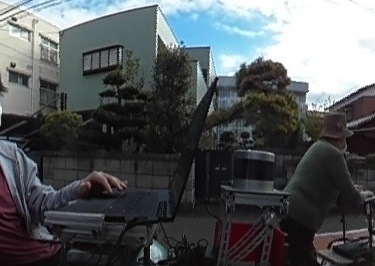person: (274, 110, 364, 266)
